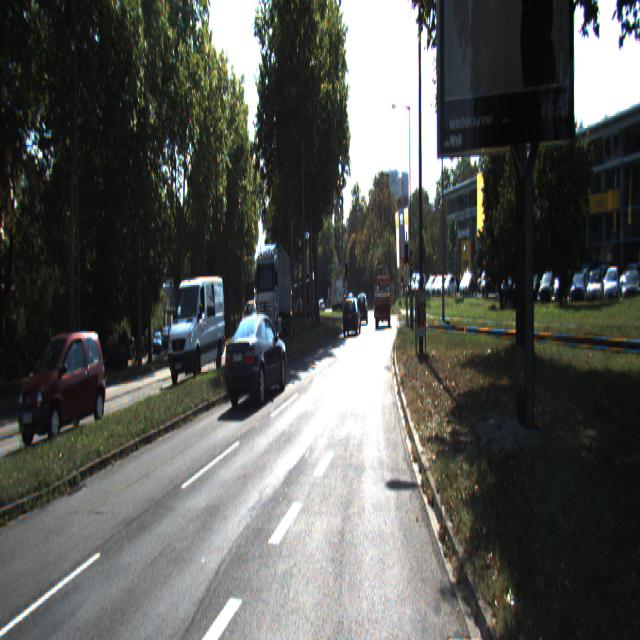Car: (19, 330, 108, 450), (223, 312, 289, 407), (168, 272, 225, 382), (255, 245, 292, 349), (374, 274, 391, 327), (342, 297, 362, 336), (356, 293, 368, 325)
